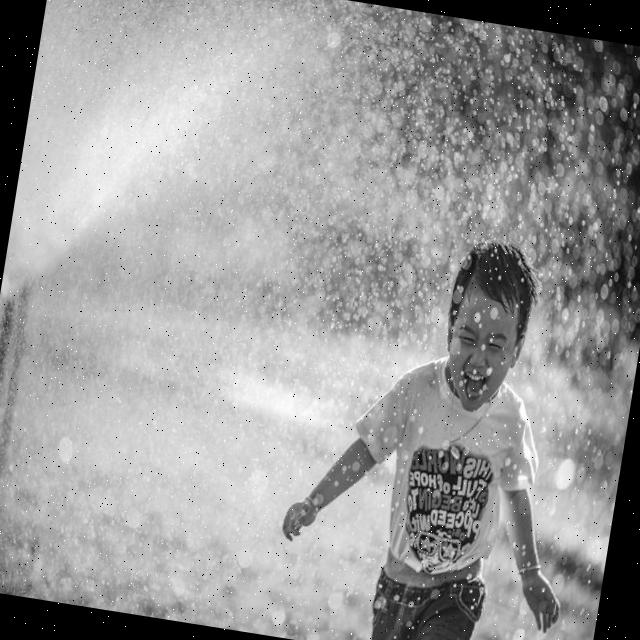Happiness: (438, 294, 522, 418)
